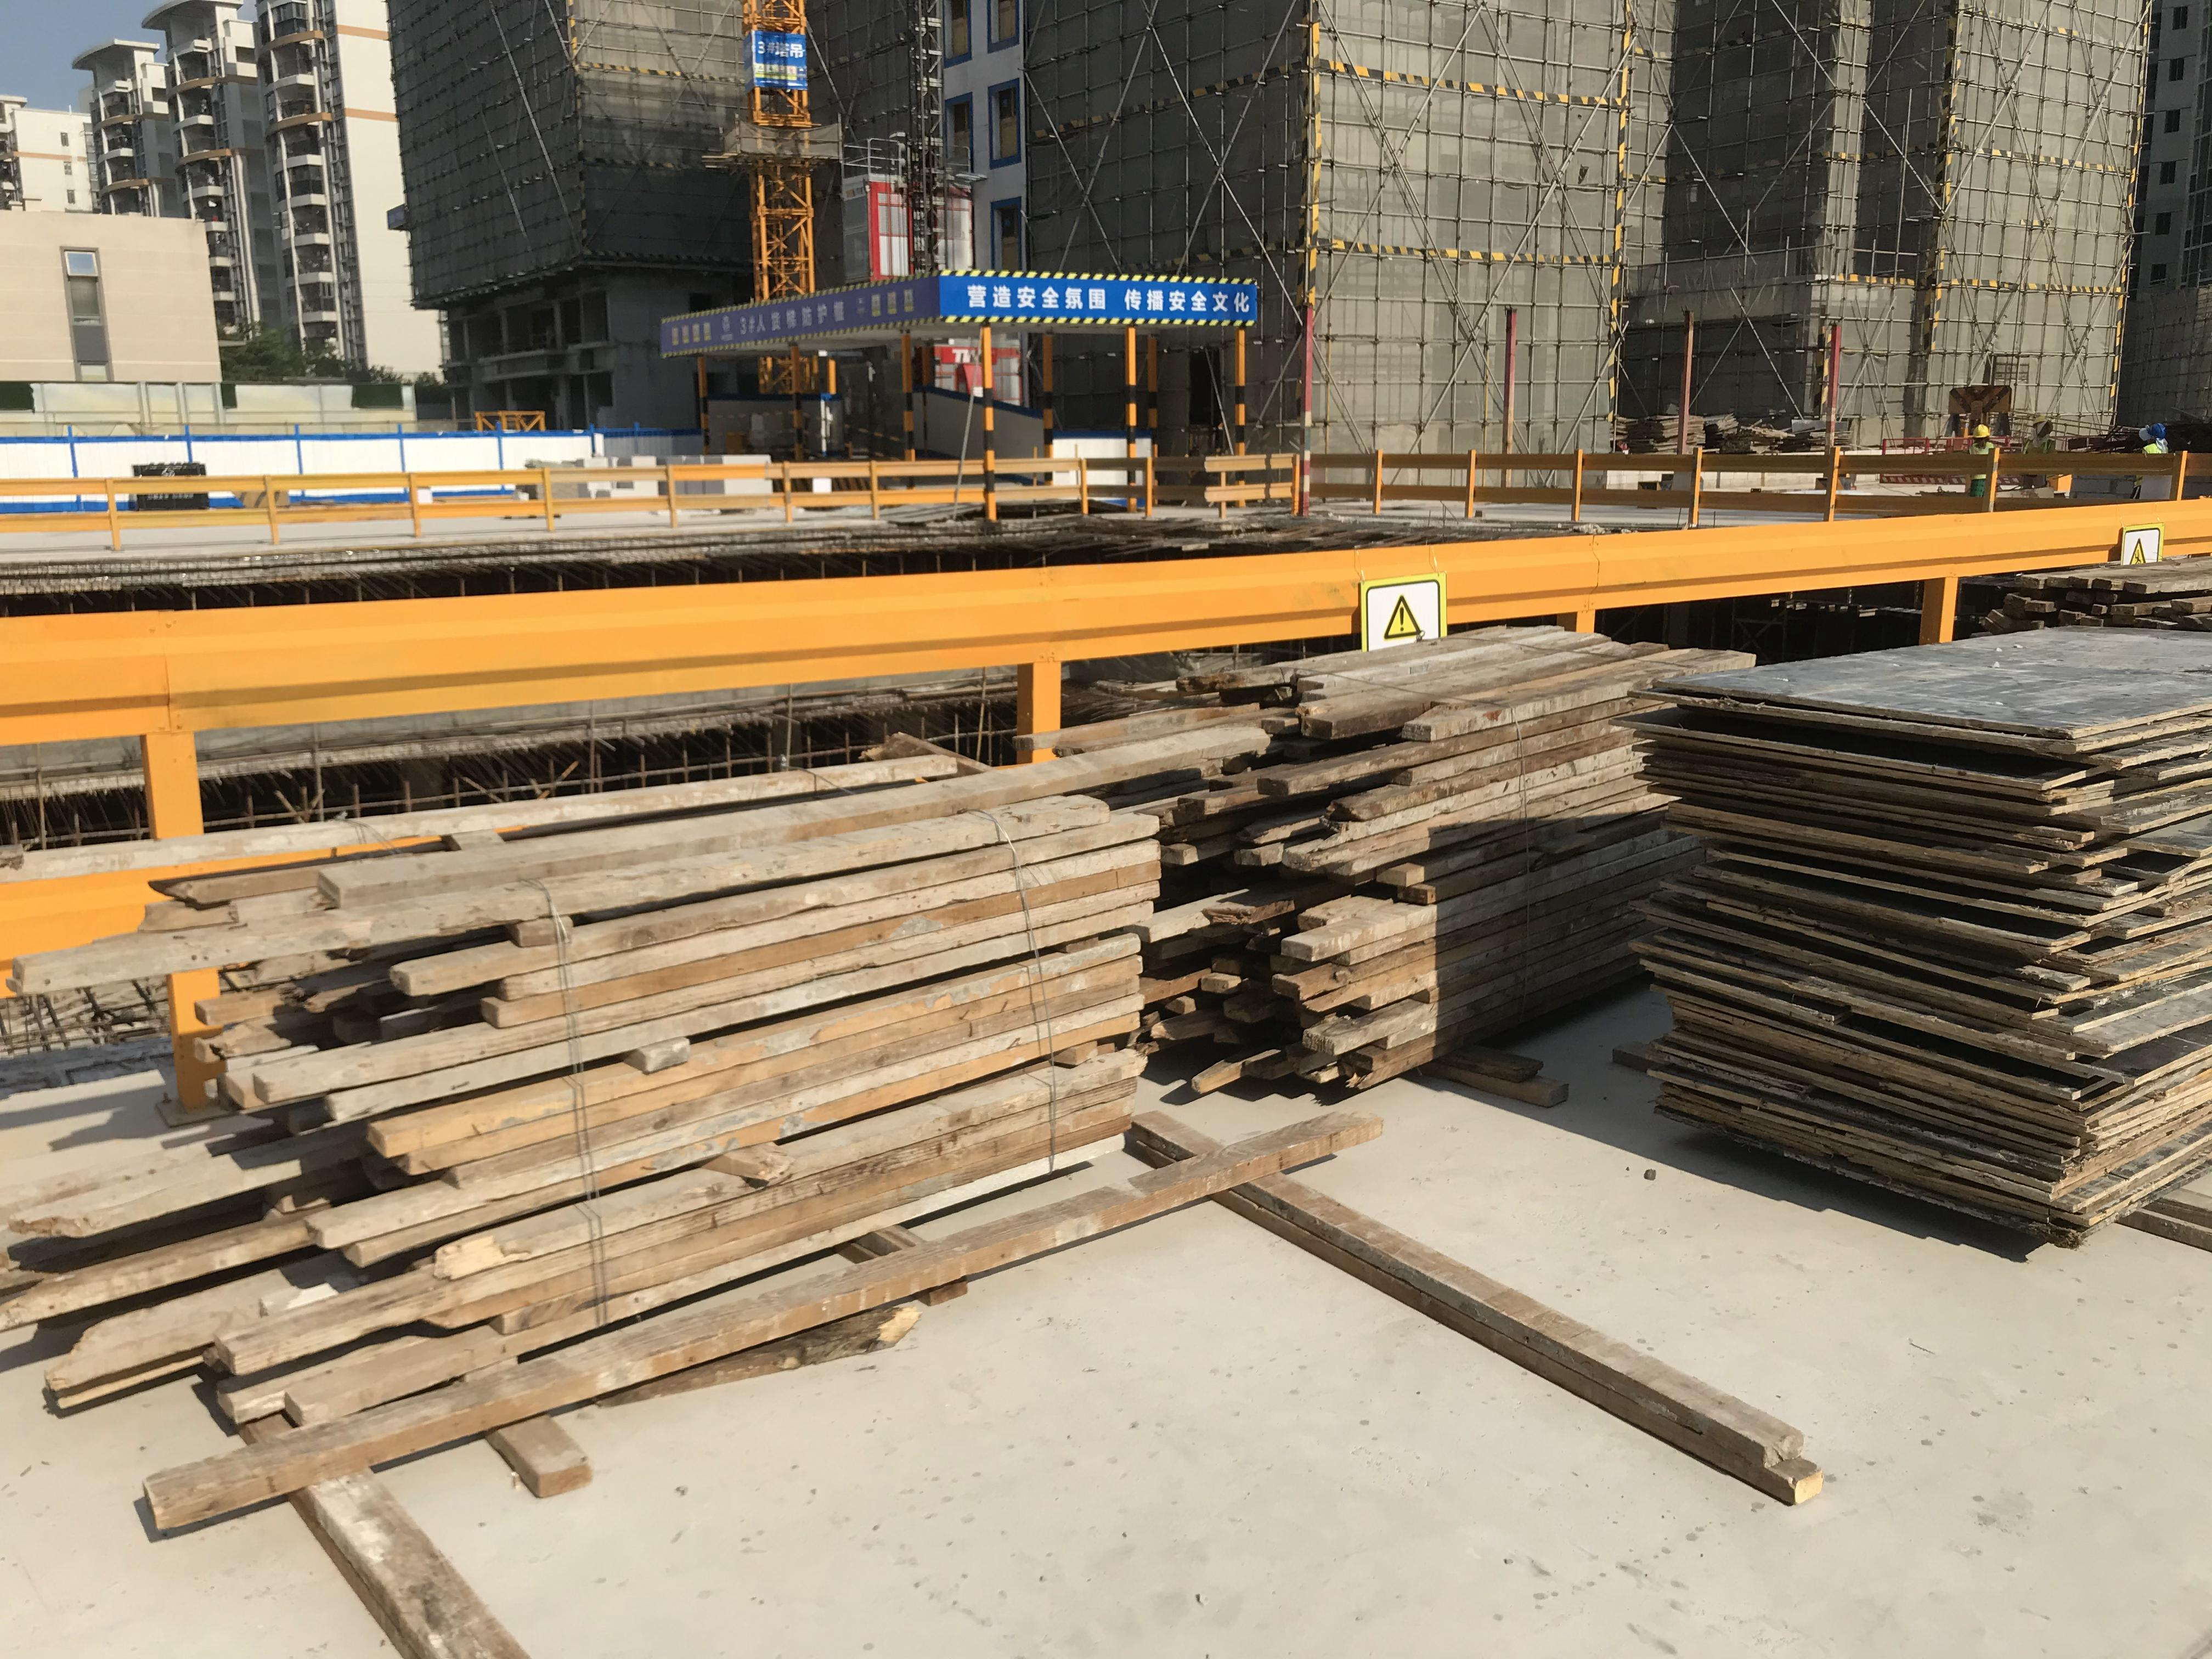board: (1640, 627, 2212, 1249)
helmet: (2149, 423, 2165, 438), (1972, 424, 1989, 438), (2033, 417, 2047, 426)
person: (2021, 417, 2055, 487), (1970, 424, 1994, 496), (2138, 422, 2170, 454)
slogan: (940, 277, 1254, 318)
vest: (2145, 442, 2168, 454)
wood: (1, 751, 1132, 1504), (1095, 618, 1661, 1098)
